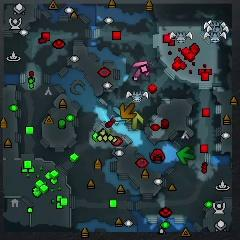x1: (133, 61, 149, 78)
x2: (126, 111, 143, 130)
x3: (112, 105, 121, 117)
x4: (176, 146, 195, 164)
x5: (120, 103, 137, 119)
